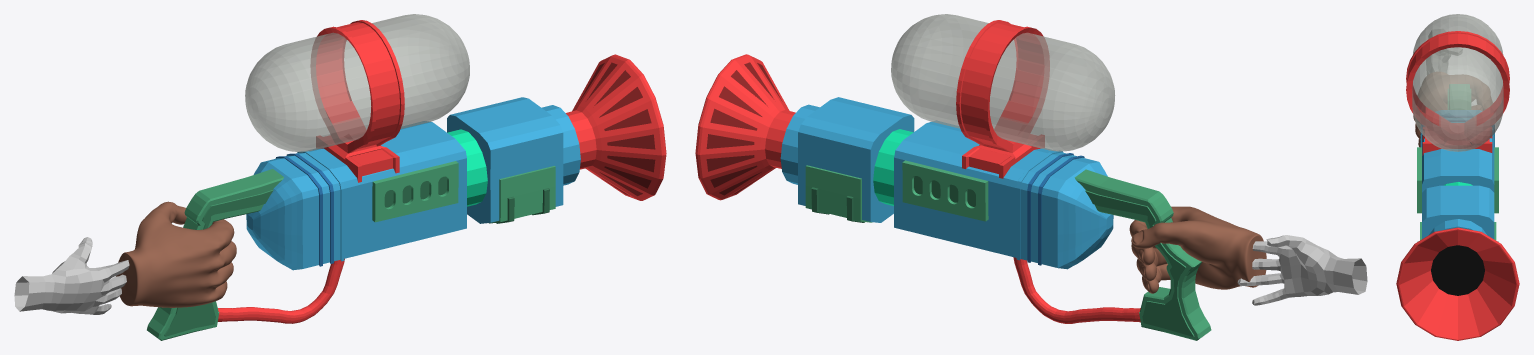
Rendered from NotAGun.fbx.
The picture shows the model from 3 angles, left to right: view 1: azimuth 30°, elevation 25°; view 2: azimuth 150°, elevation 25°; view 3: azimuth 270°, elevation 25°; orthographic projection. The views are drawn at different scales.
Parts seen in each view (by area): view 1: GUN, Container, grabbingHand, Handle, Plane005; view 2: GUN, Container, Handle, grabbingHand, Plane005; view 3: GUN, Container, grabbingHand, Plane005, Handle.
Boxes of the visible parts, x1,y1,x2,y2 form: GUN: [246, 54, 666, 270]; Container: [245, 14, 469, 182]; grabbingHand: [116, 201, 236, 307]; Handle: [147, 169, 344, 340]; Plane005: [14, 237, 129, 314]; GUN: [695, 54, 1113, 269]; Container: [891, 14, 1115, 178]; Handle: [1013, 169, 1211, 340]; grabbingHand: [1129, 206, 1266, 293]; Plane005: [1237, 235, 1367, 305]; GUN: [1396, 110, 1519, 340]; Container: [1406, 14, 1509, 155]; grabbingHand: [1413, 72, 1492, 147]; Plane005: [1426, 29, 1462, 74]; Handle: [1448, 84, 1470, 109].
Bounding box in the file's own units: 351 × 151 × 72.47.
